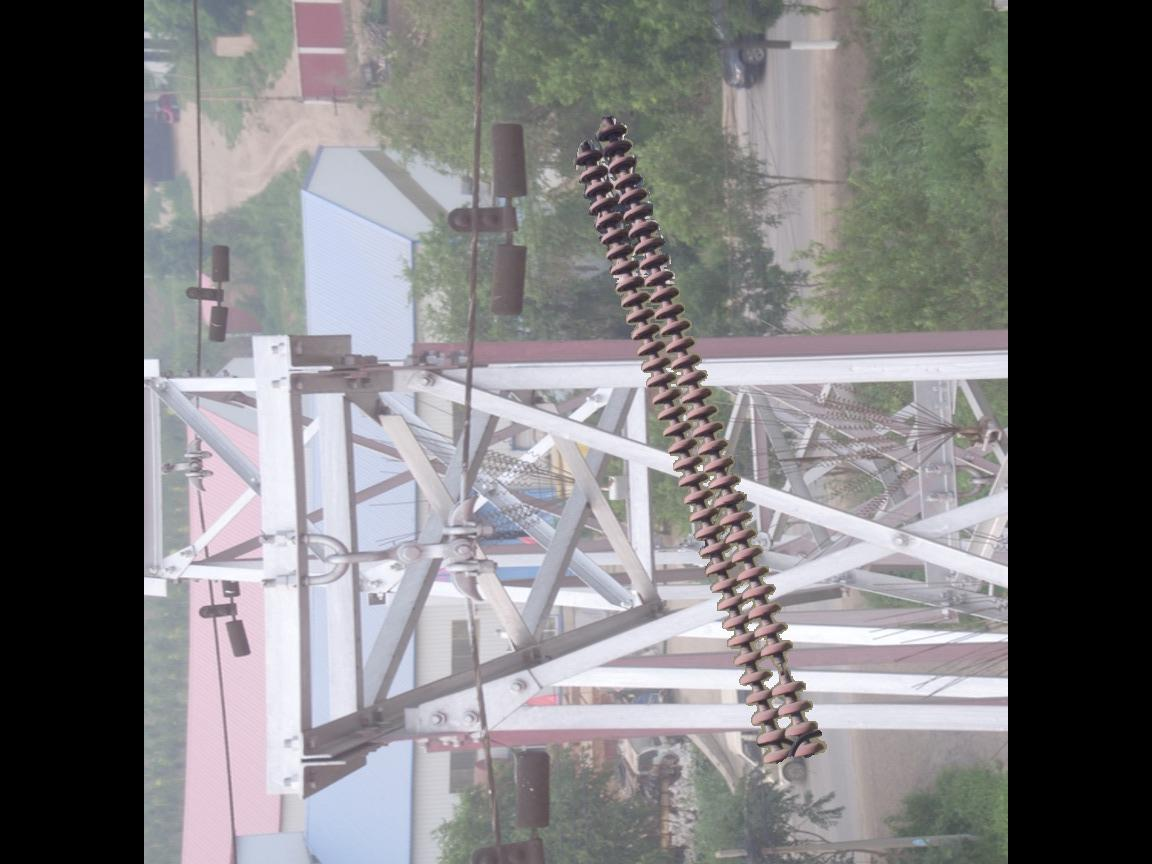insulator: (572, 113, 832, 770)
insulator_stringdrop: (760, 637, 808, 700)
